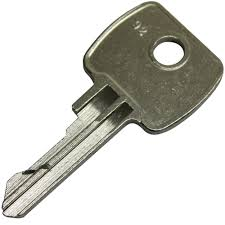kicharina: (2, 1, 225, 221)
